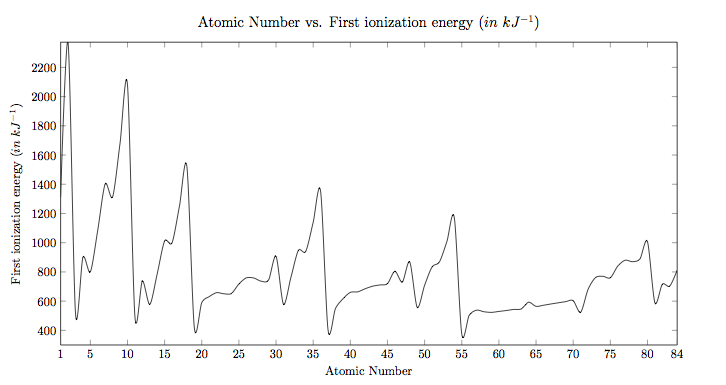S1_AxisNotZero: (23, 25, 726, 385)
